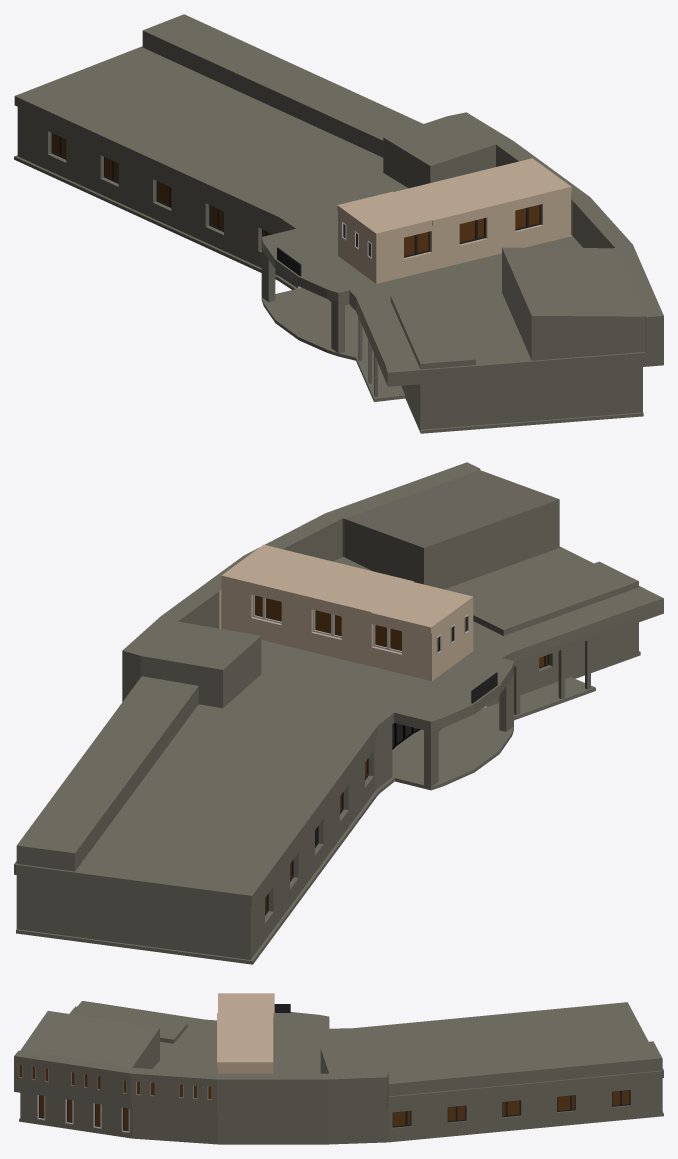
Rendered from dep_info2.glb.
3 renders of one model, top to bottom at view 1: azimuth 30°, elevation 25°; view 2: azimuth 150°, elevation 25°; view 3: azimuth 270°, elevation 25°, orthographic. The views are drawn at different scales.
Parts seen in each view (by area): view 1: dep info.002; view 2: dep info.002; view 3: dep info.002.
Part boxes in pixels (x1,y1,x2,y2): dep info.002: (14, 14, 663, 433); dep info.002: (14, 462, 663, 964); dep info.002: (14, 993, 663, 1144).
Bounding box in the file's own units: 24.14 × 8.88 × 63.53.
1 material, 1 textured.
